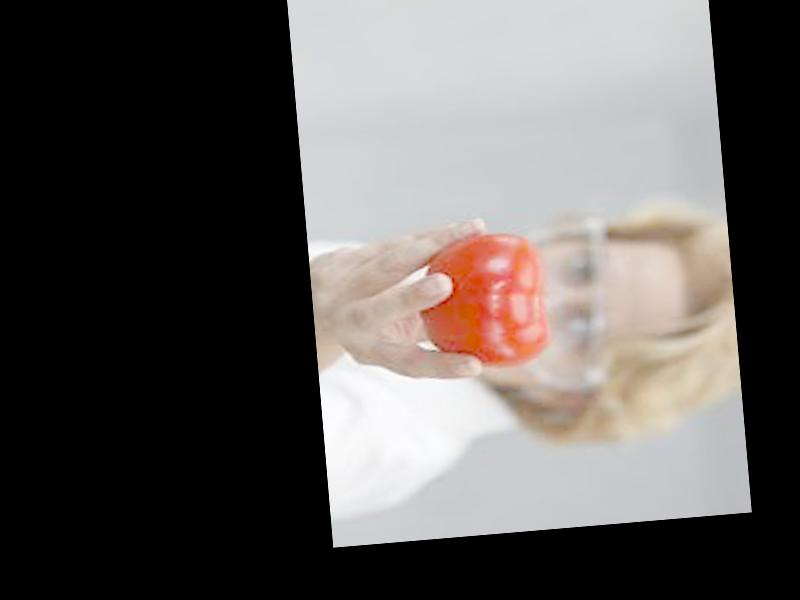Tomato: (417, 230, 550, 376)
